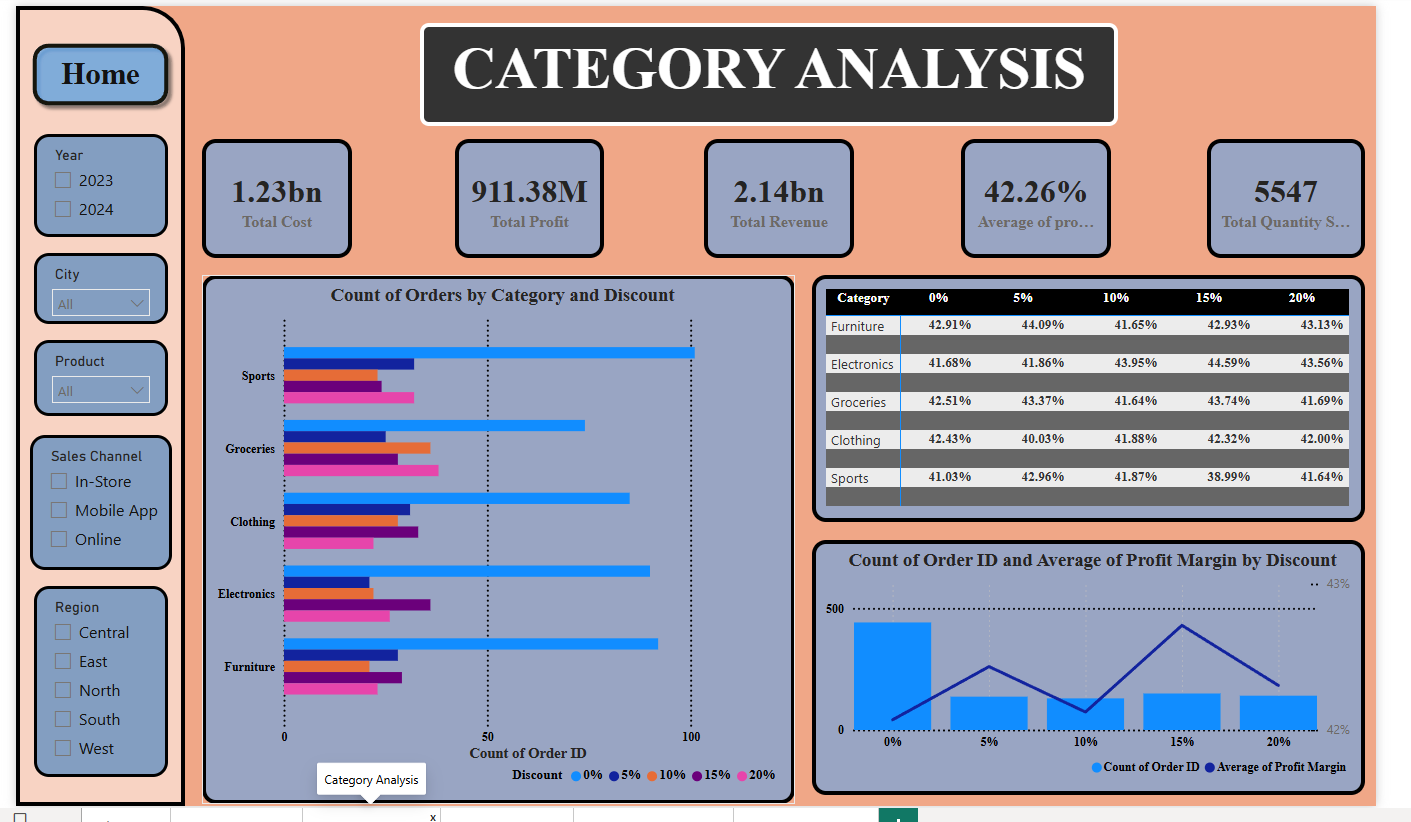

This screenshot's page, from the dashboard's own definition file:
{"tool":"powerbi","page":{"name":"Category Analysis","canvas":[1360,800],"ordinal":2},"visuals":[{"type":"clusteredBarChart","title":"Count of Orders by Category and Discount","fields":{"Category":["📦 Raw Data.Category"],"Y":["CountNonNull(📦 Raw Data.Order_ID)"],"Series":["📦 Raw Data.Discount"]},"box":[186,269,593,529],"z":0},{"type":"pivotTable","fields":{"Values":["Avg(📦 Raw Data.profit margin)"],"Rows":["📦 Raw Data.Category"],"Columns":["📦 Raw Data.Discount"]},"box":[796,269,553,247],"z":1000},{"type":"card","fields":{"Values":["📦 Raw Data.Total Cost"]},"box":[186,133,150,119],"z":2000},{"type":"card","fields":{"Values":["📦 Raw Data.Total Profit"]},"box":[439,133,149,119],"z":3000},{"type":"card","fields":{"Values":["📦 Raw Data.Total Quantity Sold"]},"box":[1191,133,158,119],"z":4000},{"type":"card","fields":{"Values":["📦 Raw Data.Total Revenue"]},"box":[688,133,150,119],"z":5000},{"type":"card","fields":{"Values":["Avg(📦 Raw Data.Proit Margin)"]},"box":[945,133,150,119],"z":6000},{"type":"lineClusteredColumnComboChart","fields":{"Category":["📦 Raw Data.Discount"],"Y":["CountNonNull(📦 Raw Data.Order_ID)"],"Y2":["Avg(📦 Raw Data.profit margin)"]},"box":[796,534,553,255],"z":7000},{"type":"textbox","box":[404,17,698,103],"z":8000},{"type":"shape","box":[0,0,169,800],"z":9000},{"type":"pageNavigator","box":[9,30,151,77],"z":10000},{"type":"slicer","fields":{"Values":["📦 Raw Data.City"]},"box":[18,247,134,71],"z":11000},{"type":"slicer","fields":{"Values":["📦 Raw Data.Product"]},"box":[18,334,134,76],"z":12000},{"type":"slicer","fields":{"Values":["📦 Raw Data.Sales Channel"]},"box":[14,429,142,135],"z":13000},{"type":"slicer","fields":{"Values":["📦 Raw Data.Region"]},"box":[18,580,134,191],"z":14000},{"type":"slicer","fields":{"Values":["DIM_Date.Year"]},"box":[18,128,134,103],"z":15000}]}

Visuals, with their boxes on the page's 1360x800 design canvas (x1, y1, x2, y2). These are canvas units, not pixel positions in the 1411x822 screenshot, which may show the page scaled, cropped or inside an application window:
"Count of Orders by Category and Discount" clusteredBarChart: {"x1": 186, "y1": 269, "x2": 779, "y2": 798}
pivotTable - Avg(📦 Raw Data.profit margin) x 📦 Raw Data.Category: {"x1": 796, "y1": 269, "x2": 1349, "y2": 516}
card - 📦 Raw Data.Total Cost: {"x1": 186, "y1": 133, "x2": 336, "y2": 252}
card - 📦 Raw Data.Total Profit: {"x1": 439, "y1": 133, "x2": 588, "y2": 252}
card - 📦 Raw Data.Total Quantity Sold: {"x1": 1191, "y1": 133, "x2": 1349, "y2": 252}
card - 📦 Raw Data.Total Revenue: {"x1": 688, "y1": 133, "x2": 838, "y2": 252}
card - Avg(📦 Raw Data.Proit Margin): {"x1": 945, "y1": 133, "x2": 1095, "y2": 252}
lineClusteredColumnComboChart - 📦 Raw Data.Discount x CountNonNull(📦 Raw Data.Order_ID): {"x1": 796, "y1": 534, "x2": 1349, "y2": 789}
textbox: {"x1": 404, "y1": 17, "x2": 1102, "y2": 120}
shape: {"x1": 0, "y1": 0, "x2": 169, "y2": 800}
pageNavigator: {"x1": 9, "y1": 30, "x2": 160, "y2": 107}
slicer - 📦 Raw Data.City: {"x1": 18, "y1": 247, "x2": 152, "y2": 318}
slicer - 📦 Raw Data.Product: {"x1": 18, "y1": 334, "x2": 152, "y2": 410}
slicer - 📦 Raw Data.Sales Channel: {"x1": 14, "y1": 429, "x2": 156, "y2": 564}
slicer - 📦 Raw Data.Region: {"x1": 18, "y1": 580, "x2": 152, "y2": 771}
slicer - DIM_Date.Year: {"x1": 18, "y1": 128, "x2": 152, "y2": 231}
